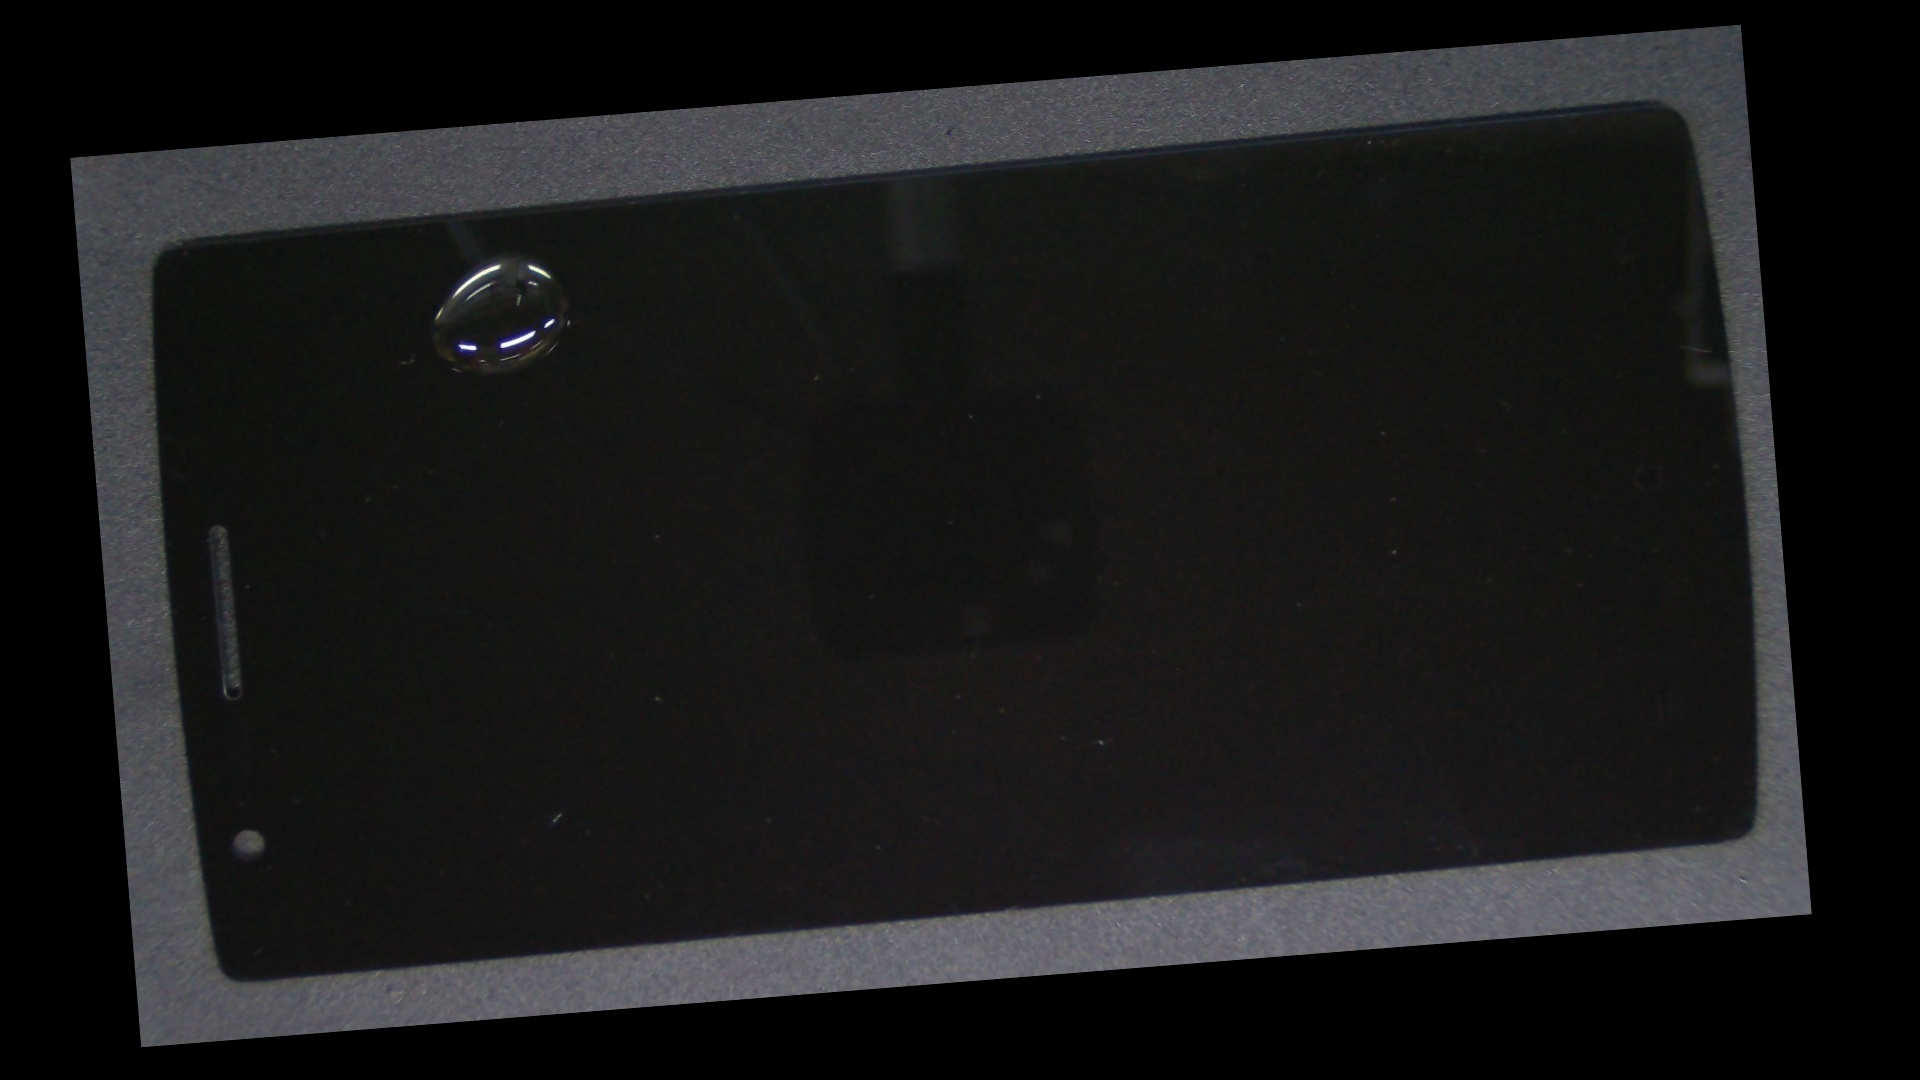oil: (287, 171, 720, 335)
